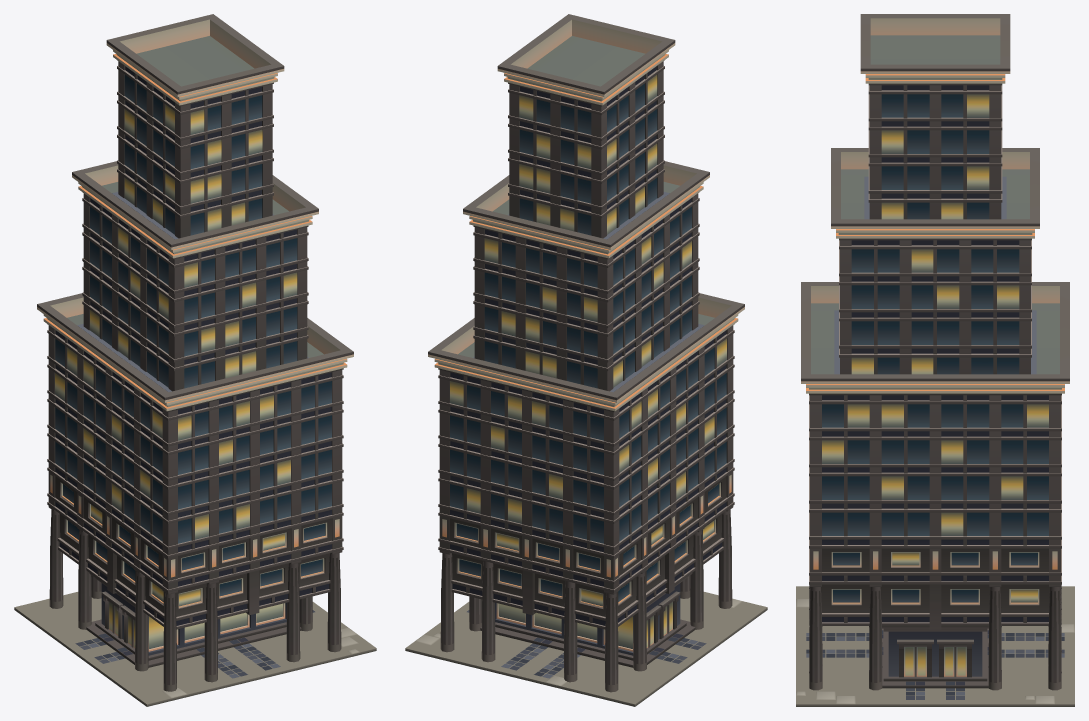
The model's file is Skyscraper_2B.fbx.
3 renders of one model, left to right at view 1: azimuth 30°, elevation 25°; view 2: azimuth 150°, elevation 25°; view 3: azimuth 270°, elevation 25°, orthographic. The views are drawn at different scales.
Visible parts, largest first — view 1: Skyscraper_2B, Window_Lights_Skyscraper_2B; view 2: Skyscraper_2B, Window_Lights_Skyscraper_2B; view 3: Skyscraper_2B, Window_Lights_Skyscraper_2B.
Part boxes in pixels (x1,y1,x2,y2): Skyscraper_2B: (14, 14, 376, 706); Window_Lights_Skyscraper_2B: (55, 104, 297, 649); Skyscraper_2B: (405, 14, 767, 706); Window_Lights_Skyscraper_2B: (450, 74, 726, 649); Skyscraper_2B: (796, 14, 1074, 706); Window_Lights_Skyscraper_2B: (822, 94, 1048, 675).
Bounding box in the file's own units: 2800 × 6720 × 2800.
